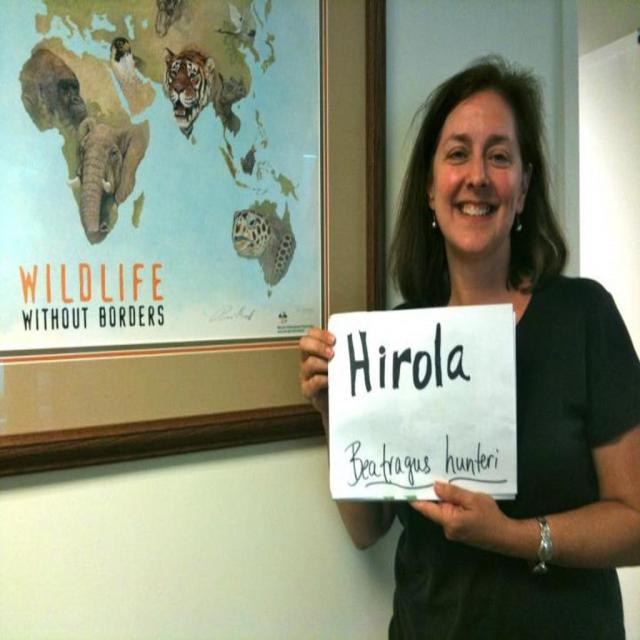elephant: (64, 123, 137, 239)
